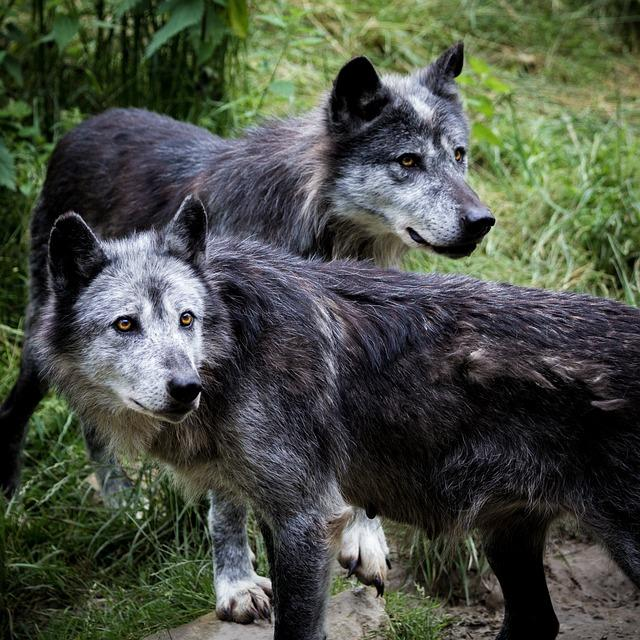Carnivorous: (23, 201, 640, 640), (30, 42, 496, 271)
